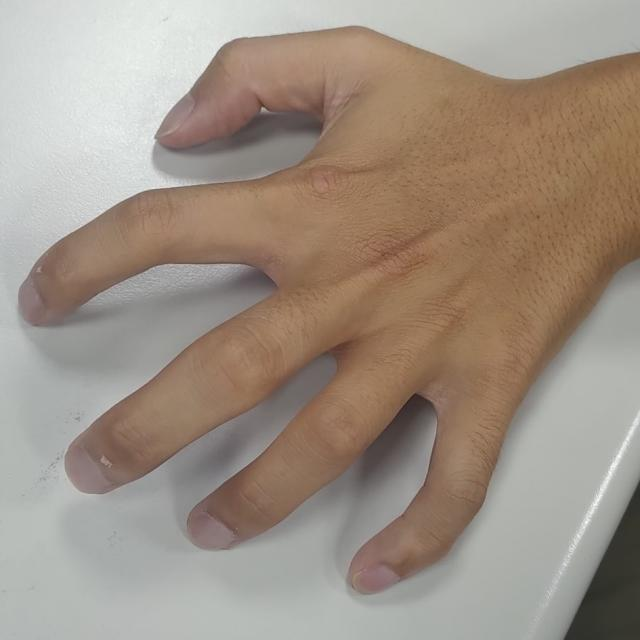Nail: (64, 444, 118, 494), (188, 506, 238, 551), (154, 93, 195, 140), (353, 566, 401, 595), (18, 277, 43, 325)
